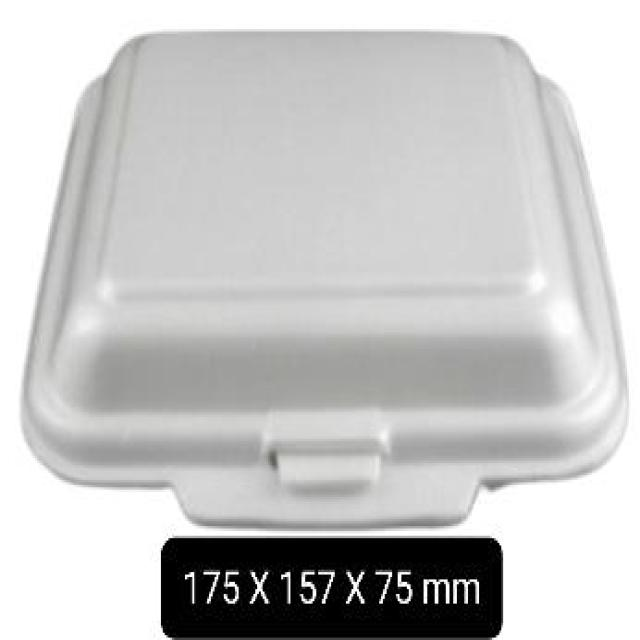styrofoam: (17, 24, 629, 531)
